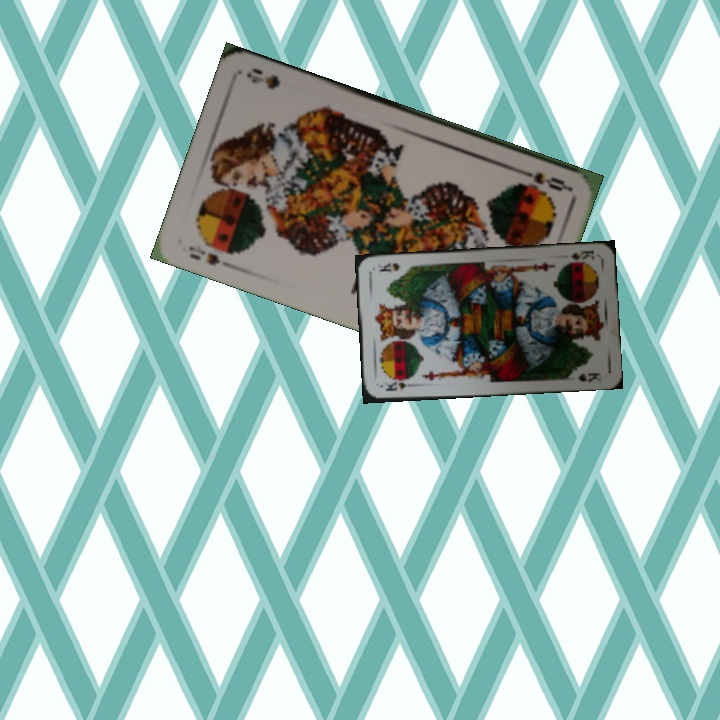SK: (564, 246, 597, 266), (381, 376, 418, 393)
SO: (514, 164, 572, 194), (185, 242, 236, 271)
